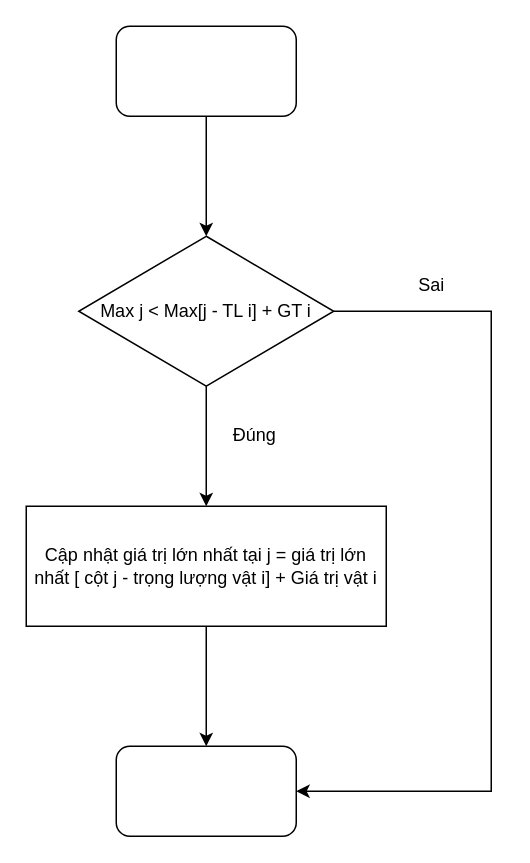
This 530x863 diagram has some shape labels left out. Each missing label, with the centre of its shape:
Trả về giá trị lớn nhất: the point at 205,790
Tính giá trị lớn nhất: the point at 205,70
